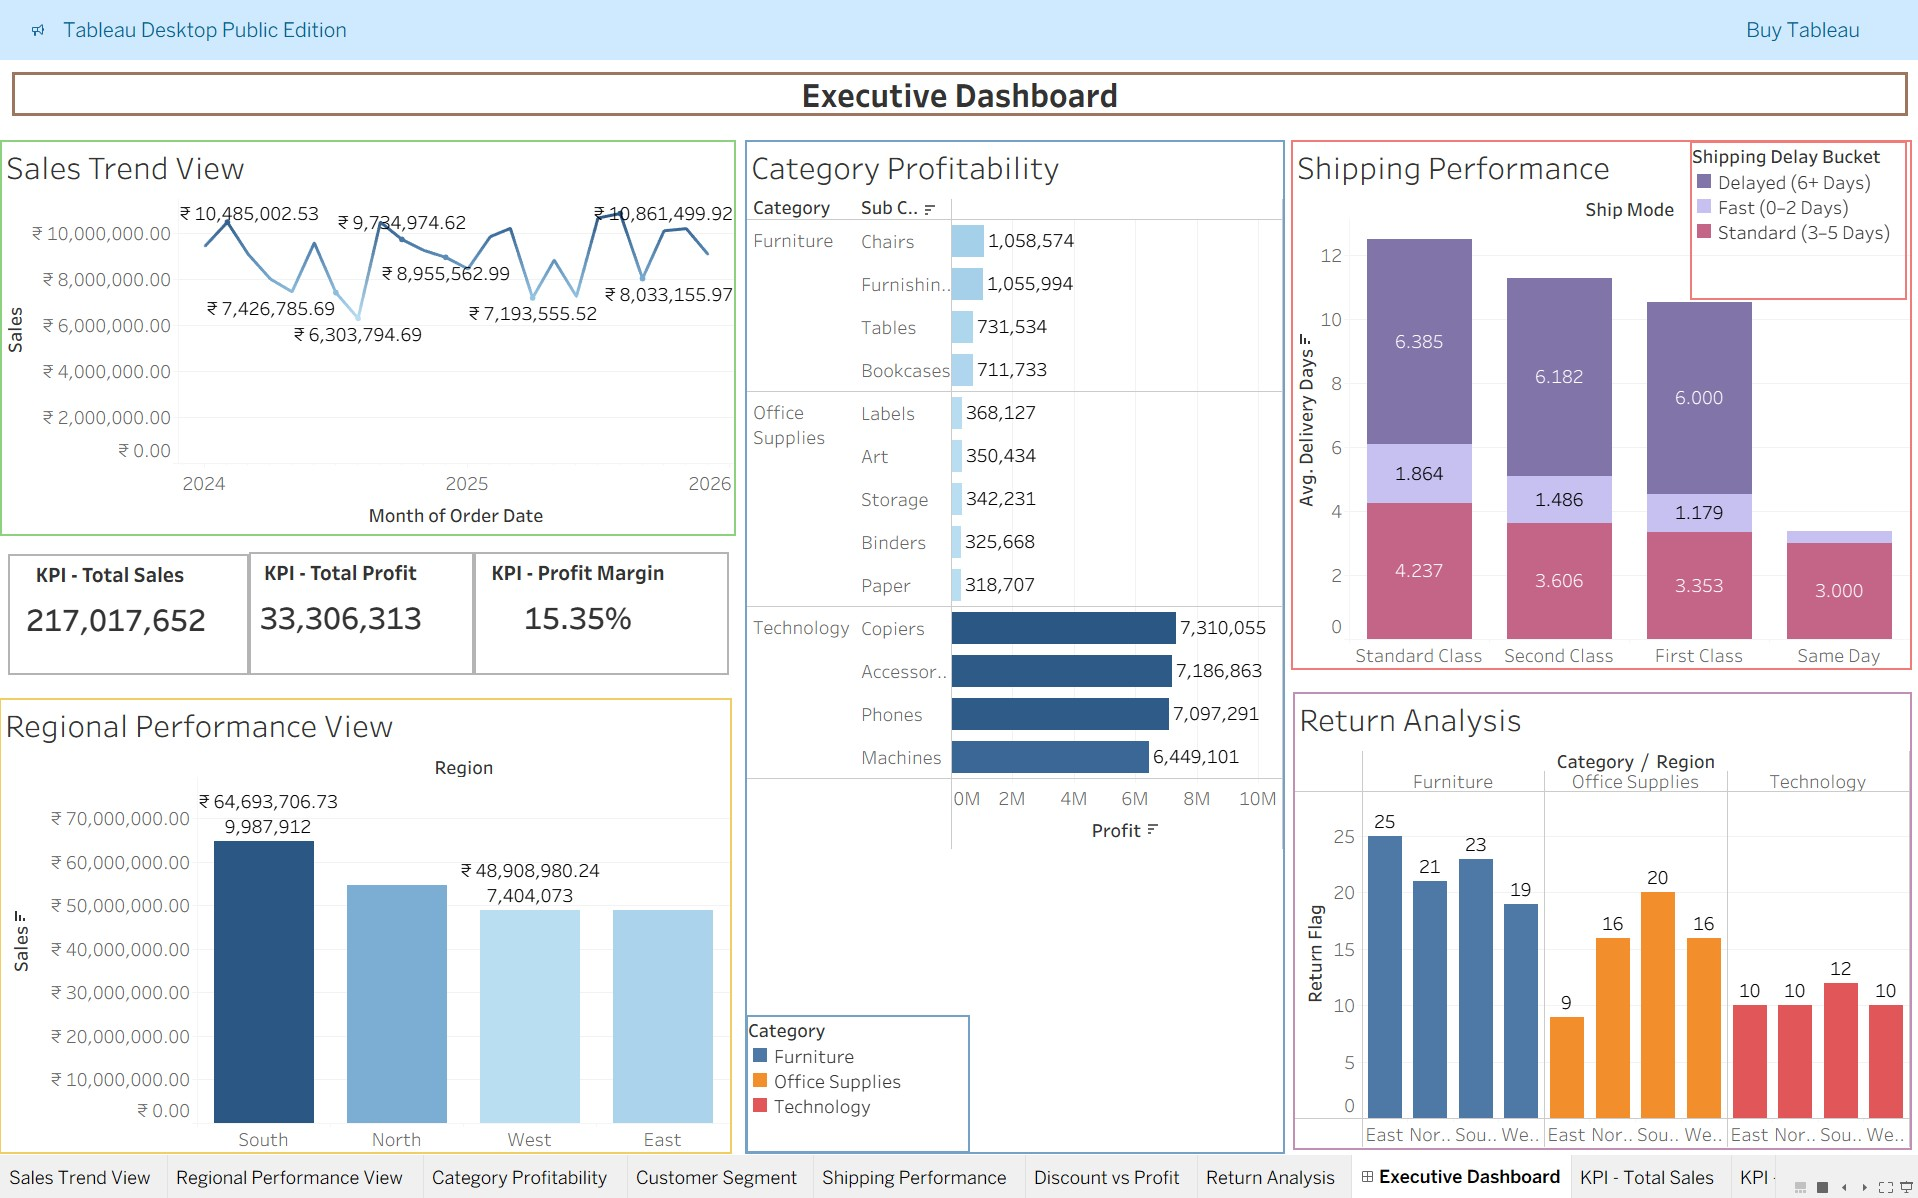

Layout of this report page (visuals, bound fields, positions):
{"tool":"tableau","page":{"name":"Executive Dashboard","canvas":[1000,1000],"units":"permille","ordinal":0},"visuals":[{"type":"title","box":[5.1,9.8,989.8,64]},{"type":"worksheet","title":"Sales Trend View","mark":"Automatic","rows":["sales"],"cols":["order_date"],"box":[0,72.7,383.5,362.1]},{"type":"worksheet","title":"Category Profitability","mark":"Automatic","rows":["category","sub_category"],"cols":["profit"],"box":[387.8,72.7,281.4,926.1]},{"type":"worksheet","title":"Shipping Performance","mark":"Automatic","rows":["delivery_days"],"cols":["ship_mode"],"box":[672.2,72.7,323.6,484]},{"type":"legend","title":"Shipping Performance","param":"[federated.0s5ky0p1k2tq9611wm3dv0gju01t].[none:Calculation_0455764223348739:nk]","box":[880.1,73.9,113.2,145.3]},{"type":"worksheet","title":"KPI - Total Profit","mark":"Automatic","box":[129.7,449.5,117.4,112.1]},{"type":"worksheet","title":"KPI - Profit Margin","mark":"Automatic","box":[247.1,449.5,132.7,112.1]},{"type":"worksheet","title":"KPI - Total Sales","mark":"Automatic","box":[4.3,450.7,125.4,110.8]},{"type":"worksheet","title":"Return Analysis","mark":"Automatic","rows":["return_flag"],"cols":["category","region"],"box":[673.4,577.6,322.3,418.7]},{"type":"legend","title":"Return Analysis","param":"[federated.0s5ky0p1k2tq9611wm3dv0gju01t].[none:category:nk]","box":[388.4,871.9,116.8,125.6]}]}

Visuals, with their boxes on the dashboard's canvas, which has no fixed pixel size, in thousandths of its width and height (x1, y1, x2, y2). These are canvas units, not pixel positions in the 1918x1198 screenshot, which may show the page scaled, cropped or inside an application window:
title: <box>5,10,995,74</box>
"Sales Trend View" worksheet: <box>0,73,384,435</box>
"Category Profitability" worksheet: <box>388,73,669,999</box>
"Shipping Performance" worksheet: <box>672,73,996,557</box>
"Shipping Performance" legend: <box>880,74,993,219</box>
"KPI - Total Profit" worksheet: <box>130,450,247,562</box>
"KPI - Profit Margin" worksheet: <box>247,450,380,562</box>
"KPI - Total Sales" worksheet: <box>4,451,130,562</box>
"Return Analysis" worksheet: <box>673,578,996,996</box>
"Return Analysis" legend: <box>388,872,505,998</box>
